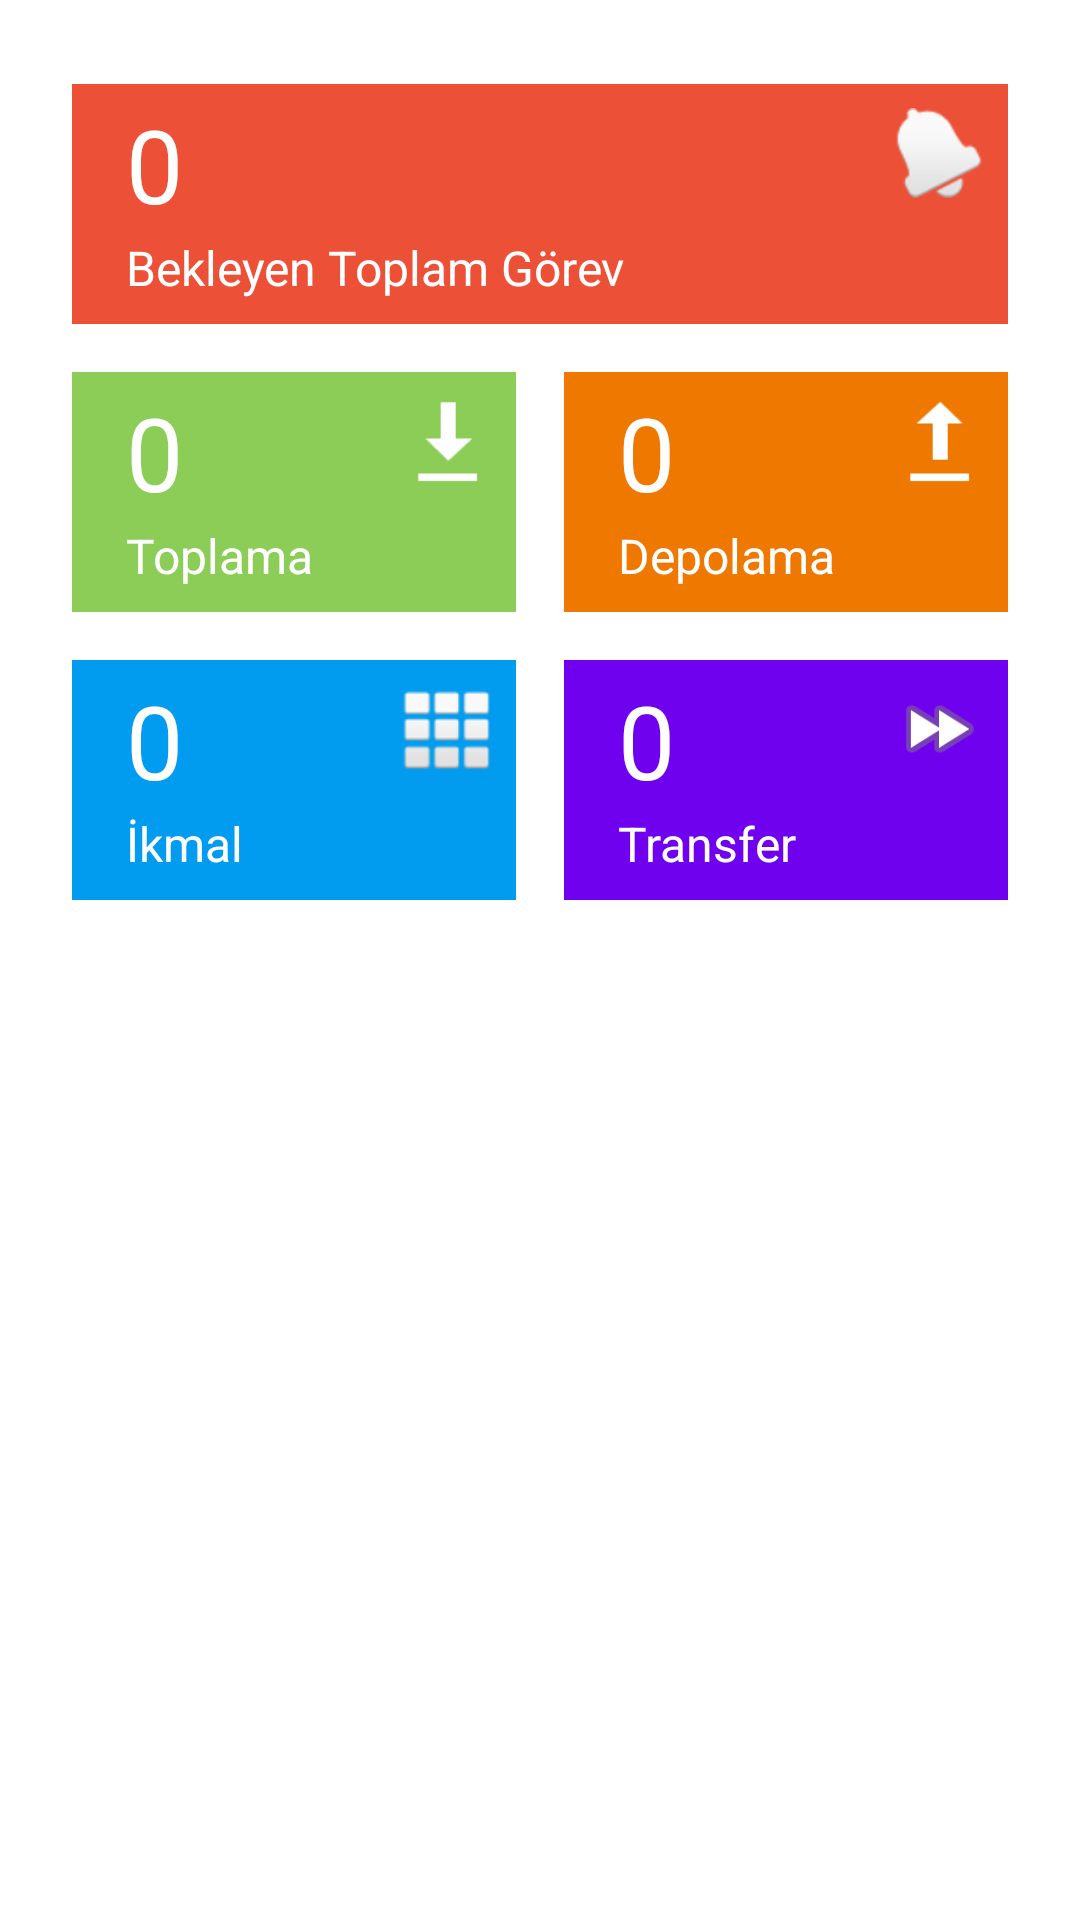

Named icons in this screenshot (1080*1920) and their bounding boxes, detection(x1, y1, x2, y2):
dialer: detection(403, 691, 490, 769)
download: detection(418, 402, 477, 481)
popup reminder: detection(897, 108, 981, 198)
